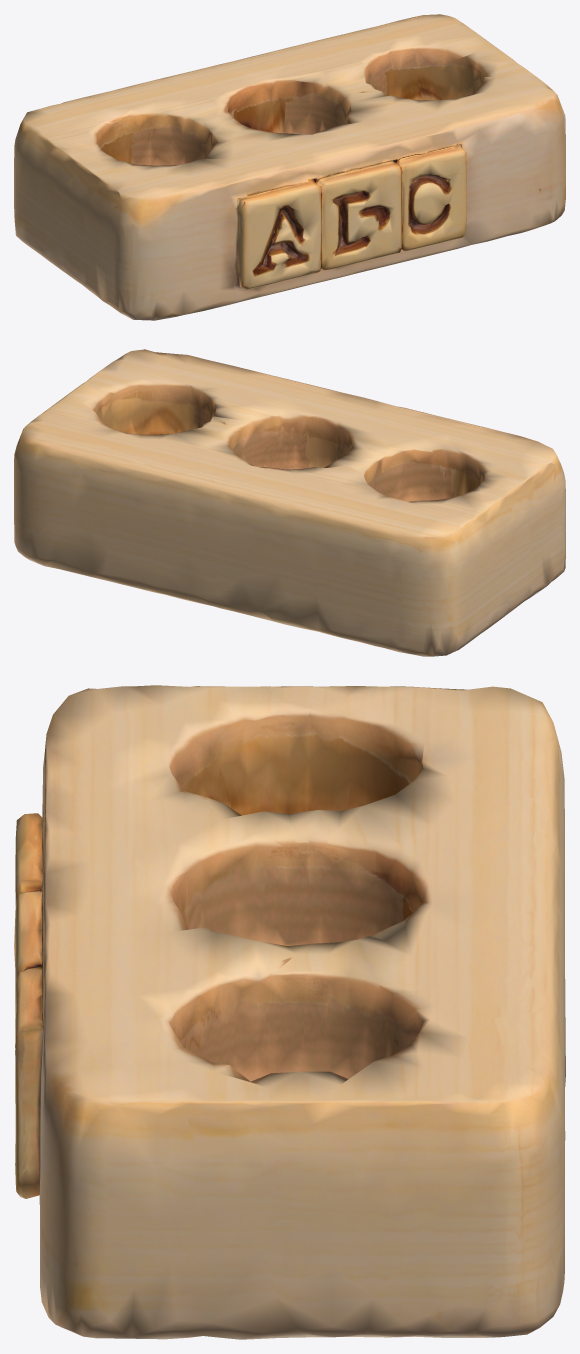
The model's file is model_small.obj.
3 views of the same model, one above another, from view 1: azimuth 30°, elevation 25°; view 2: azimuth 150°, elevation 25°; view 3: azimuth 270°, elevation 25° (orthographic). The views are drawn at different scales.
Bounding box in the file's own units: 0.1102 × 0.029 × 0.0598.
1 material, 1 textured.
